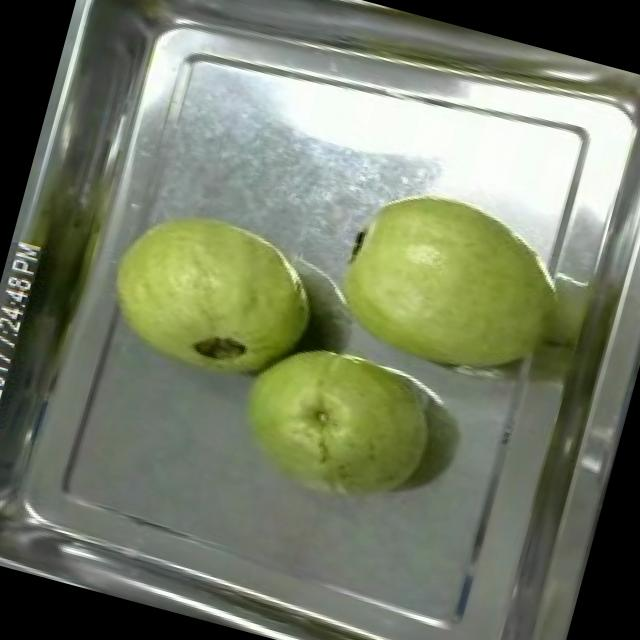Fruit: (310, 165, 572, 408), (83, 184, 339, 408), (209, 313, 456, 539)
